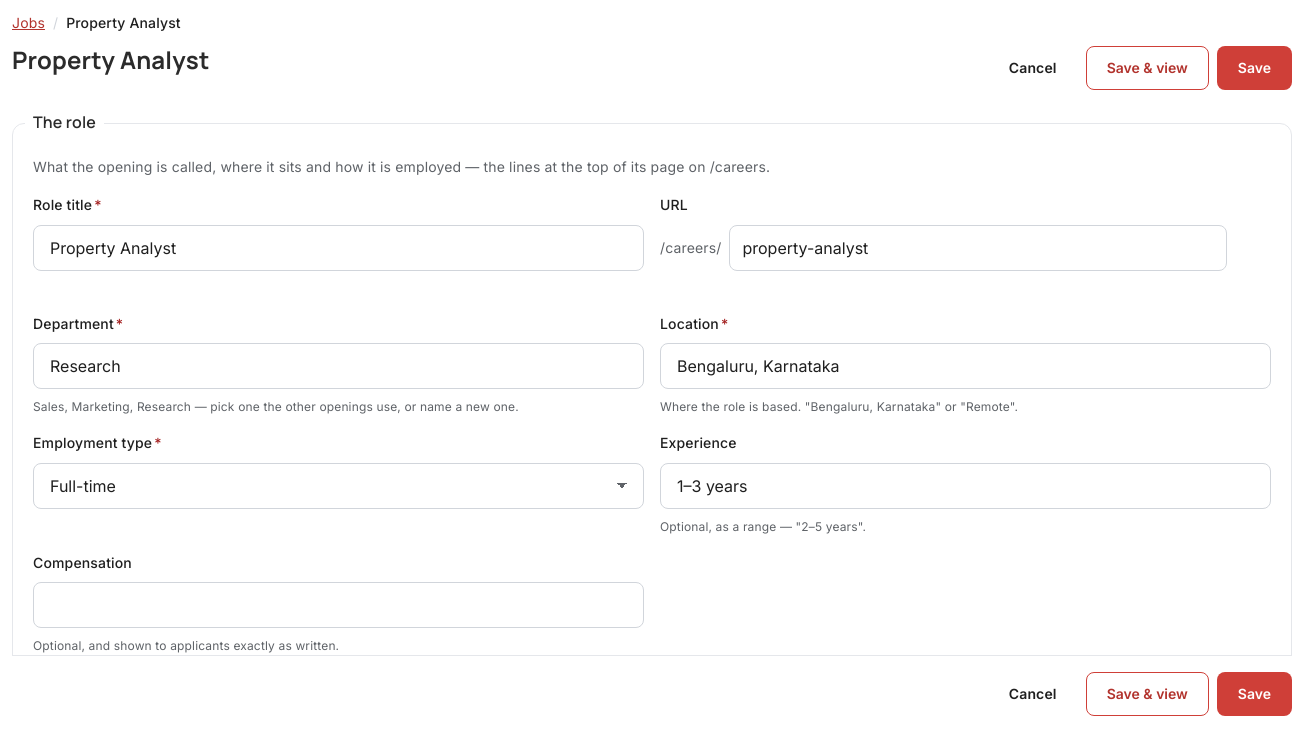
Test case: JobFormPage (QA-61) › says so when the opening was deleted elsewhere, and guards nothing
Replace the text in the field labelled "Location*" with "Remote": (966, 366) [660,343,1271,389]
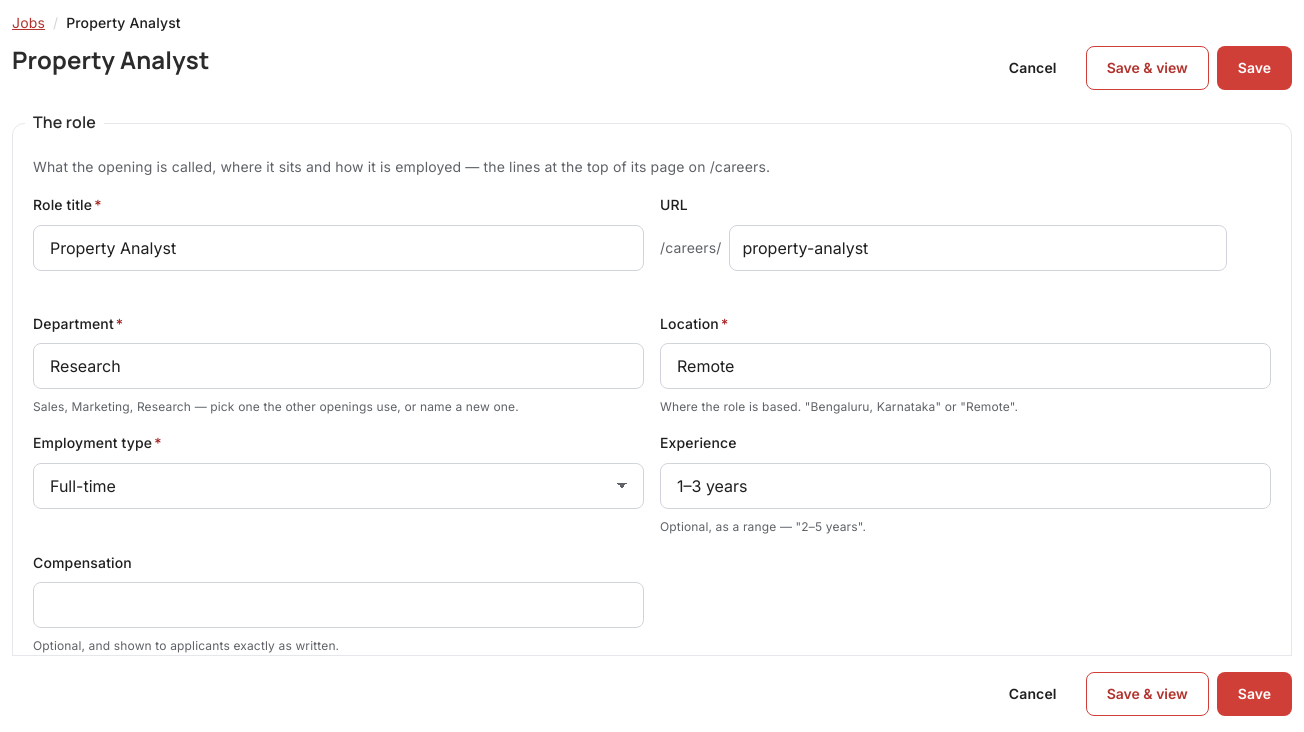
Click the 1st button "Save": (1254, 68) [1217,46,1292,90]
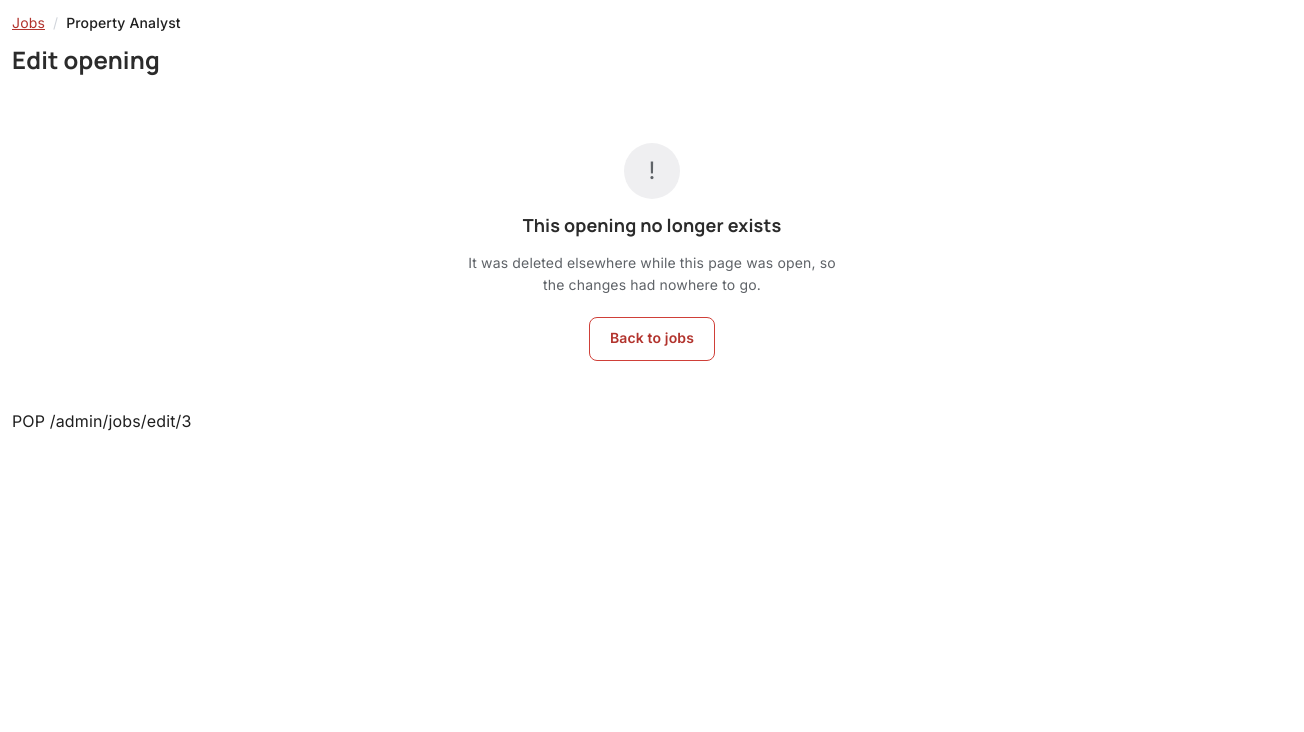
Now the text "This opening no longer exists" is shown, box [523,211,781,240]
